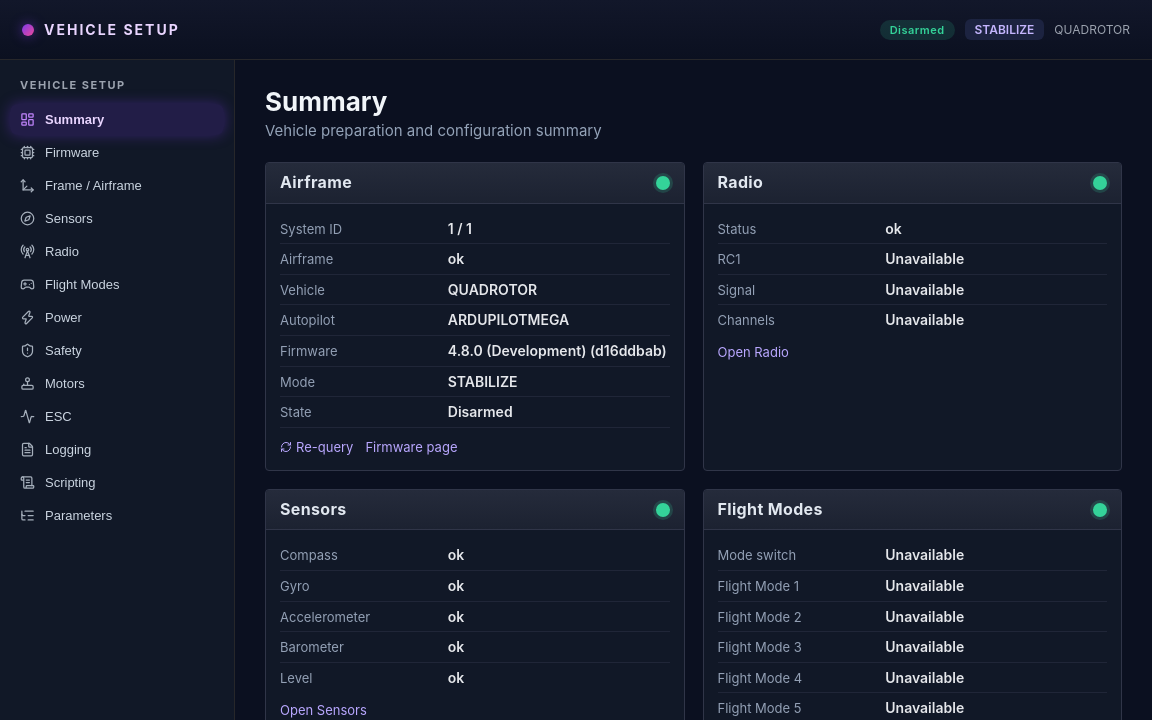
Test: SetupConfig — shell and navigation › navigates to the Sensors page (Phase 8C)
This screenshot has width=1152, height=720.
Click the button with test id "setup-nav-sensors": (117, 218) [10,203,224,234]
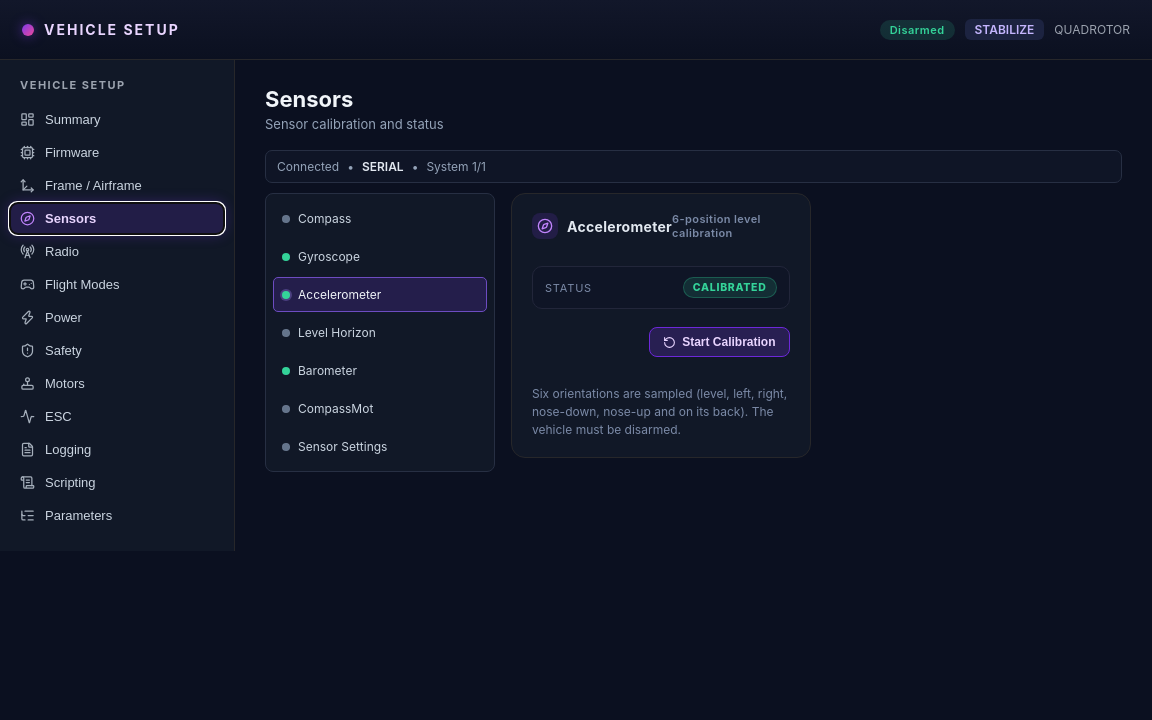
Now the element with test id "setup-sensors" is shown, box [265,86,1122,472]
Now the element with test id "setup-accel-card" is shown, box [511,193,810,458]
